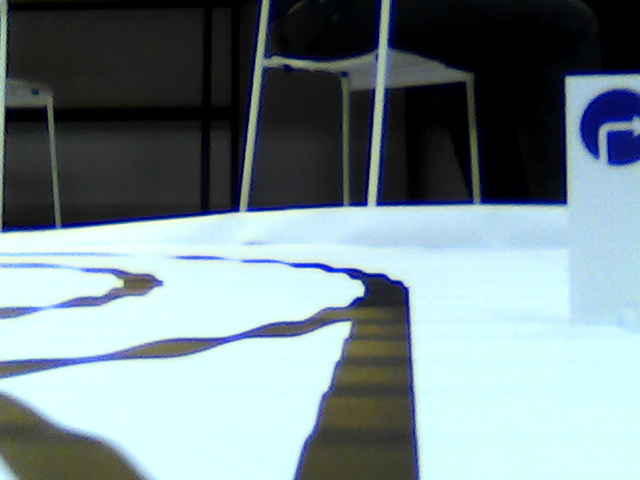Right: (576, 85, 640, 165)
